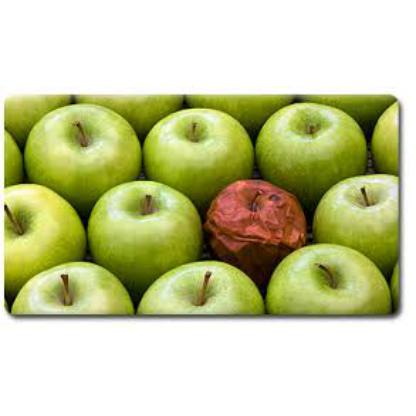apple: (27, 108, 134, 184), (92, 185, 190, 263), (258, 108, 364, 178), (144, 256, 260, 316), (150, 110, 244, 182), (272, 250, 384, 310), (309, 178, 397, 246), (6, 186, 78, 262), (13, 268, 126, 312)
damaged_apple: (211, 176, 303, 258)
